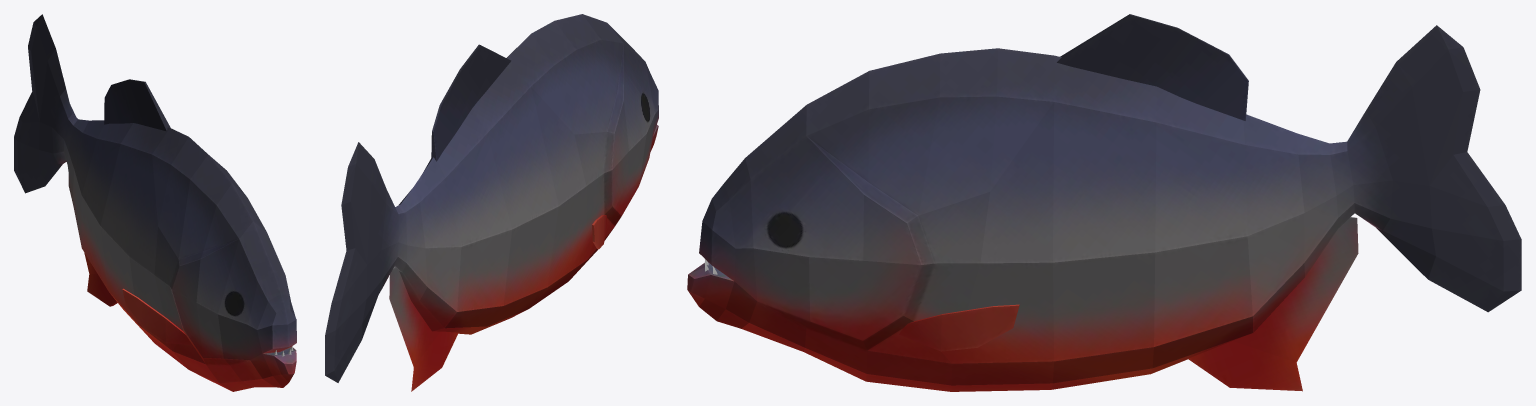
Rendered from c307K4BlGr2.glb.
The picture shows the model from 3 angles, left to right: view 1: azimuth 30°, elevation 25°; view 2: azimuth 150°, elevation 25°; view 3: azimuth 270°, elevation 25°; orthographic projection. The views are drawn at different scales.
Parts seen in each view (by area): view 1: Piranha_mesh; view 2: Piranha_mesh; view 3: Piranha_mesh.
Part boxes in pixels (x1=…): Piranha_mesh: x1=14, y1=14, x2=296, y2=391; Piranha_mesh: x1=325, y1=14, x2=658, y2=391; Piranha_mesh: x1=687, y1=14, x2=1521, y2=391.
Size of the model in its own units: 0.496 by 1 by 2.
Materials: 1 (1 with a texture image).
